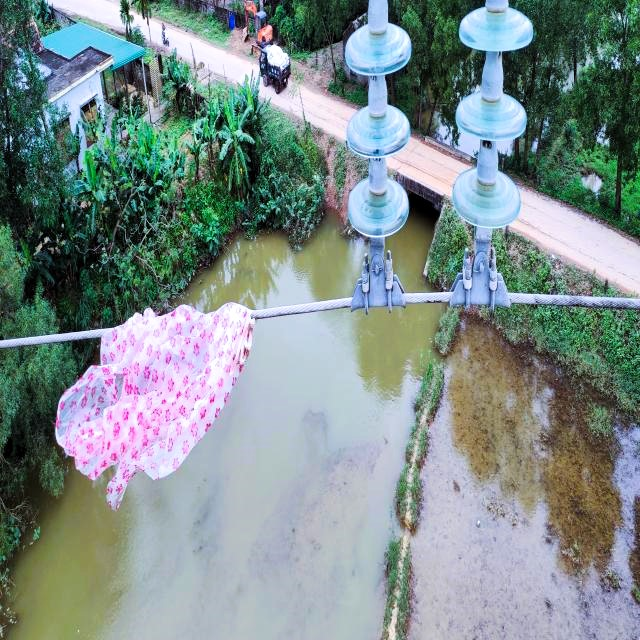wire foreign body: (58, 290, 273, 502)
